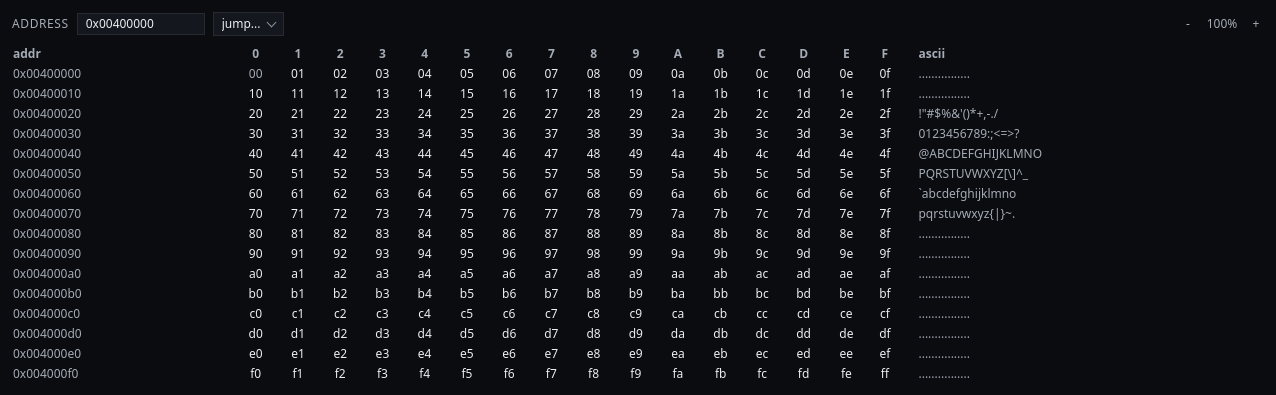
Test case: MemoryPanel › re-reads from a typed base address
Replace the text in the field named "memory base address" with "0x00500000": (141, 24) 77,13 -> 205,35
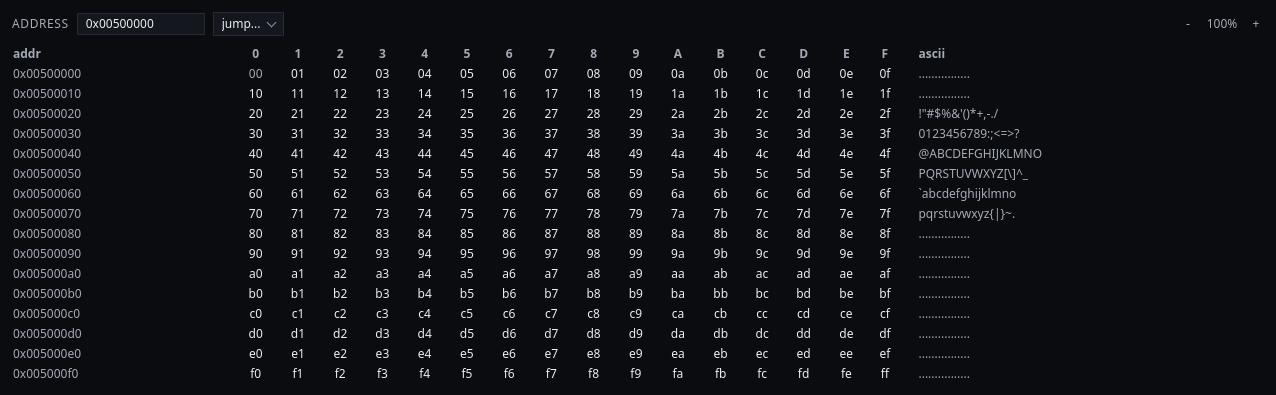
expect the text "0x00500000" is shown: met, box 12,64 -> 235,84
expect the text "0x00400000" is gone: met
